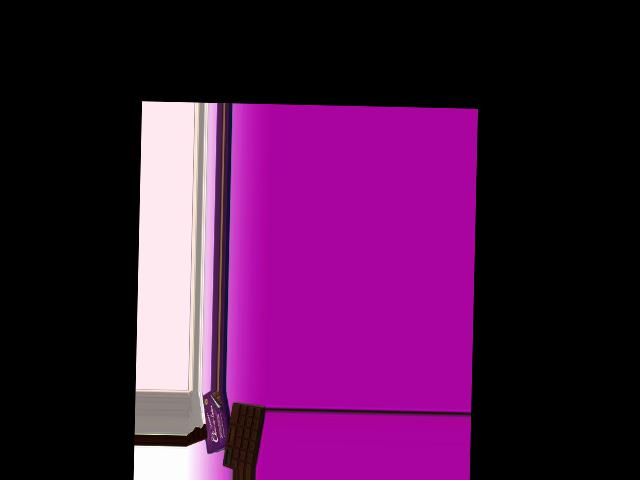chocolate: (221, 403, 266, 467)
